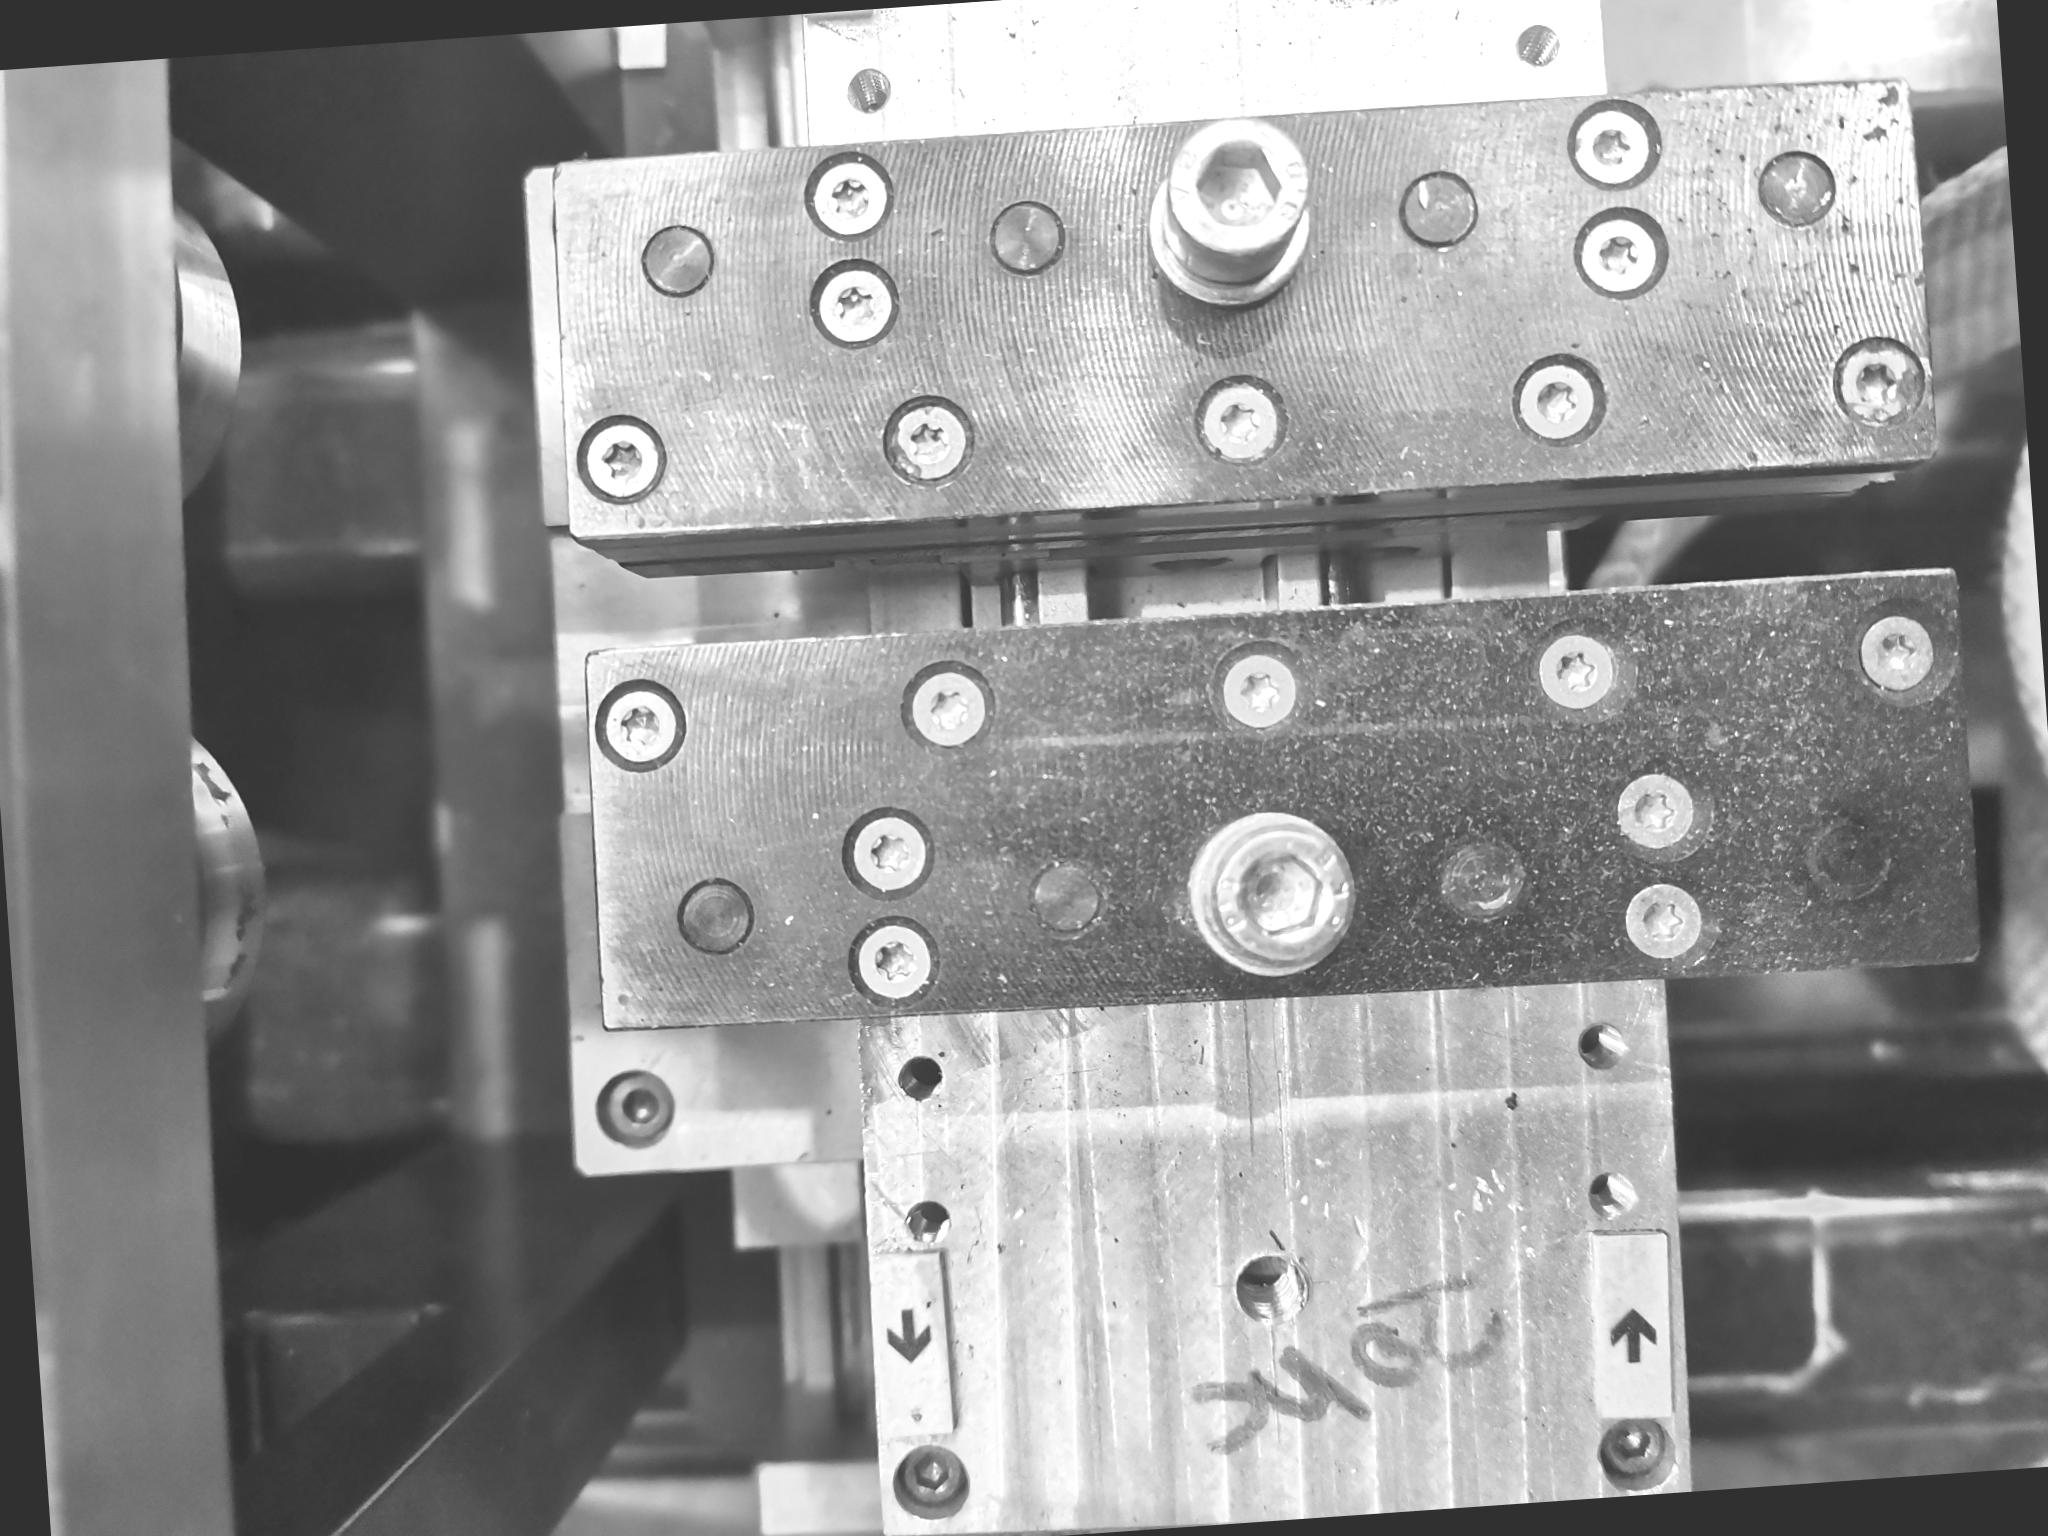allen: (1130, 121, 1343, 322), (1172, 798, 1372, 992), (590, 1064, 682, 1160), (888, 1442, 979, 1526), (1594, 1413, 1683, 1497)
torx: (1500, 342, 1622, 462), (1196, 628, 1314, 747), (870, 380, 984, 496), (1824, 324, 1936, 442), (1560, 201, 1678, 312), (1182, 362, 1296, 476), (584, 672, 698, 783), (892, 652, 1004, 764), (1556, 86, 1668, 193), (788, 142, 899, 249), (829, 794, 941, 900), (837, 912, 948, 1018), (796, 244, 902, 352), (1524, 620, 1628, 726), (564, 404, 670, 508), (1852, 598, 1950, 699), (1608, 762, 1708, 860), (1615, 868, 1715, 963)
